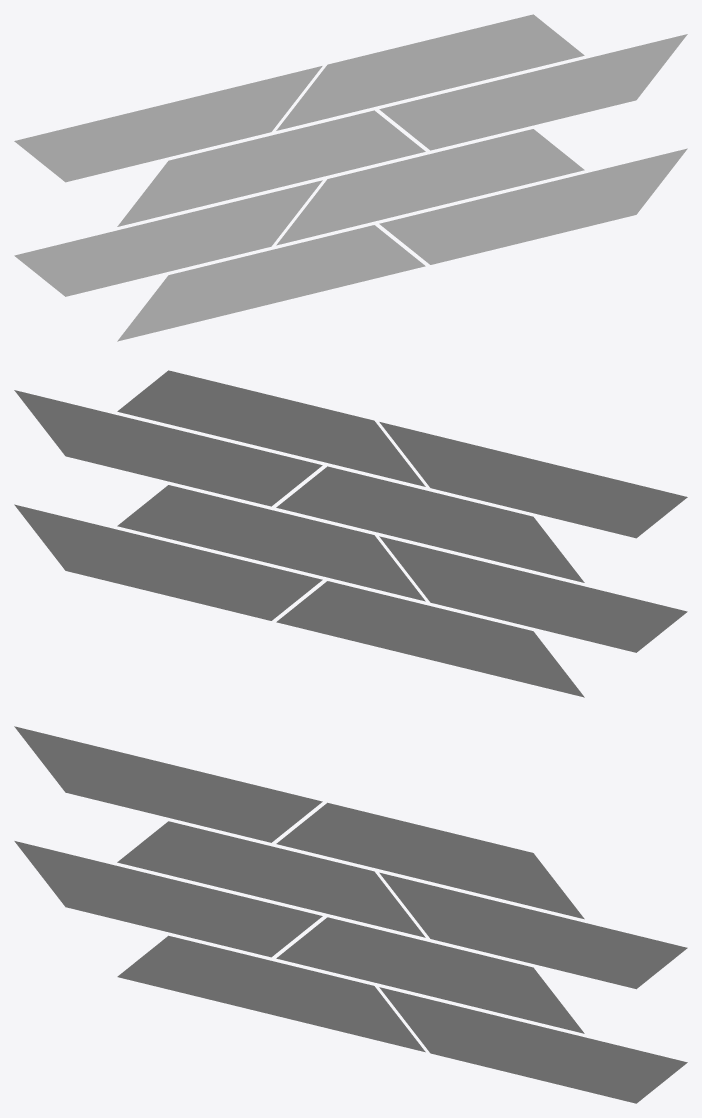
The model's file is treviso.gltf.
3 views of the same model, one above another, from view 1: azimuth 30°, elevation 25°; view 2: azimuth 150°, elevation 25°; view 3: azimuth 330°, elevation 25° (orthographic).
Visible parts, largest first — view 1: treviso; view 2: treviso; view 3: treviso.
Part boxes in pixels (x1,y1,x2,y2): treviso: (14,14,687,341); treviso: (14,370,687,697); treviso: (14,726,687,1103).
Bounding box in the file's own units: 332 × 106 × 3.12e-05.
8 materials, 8 textured.
